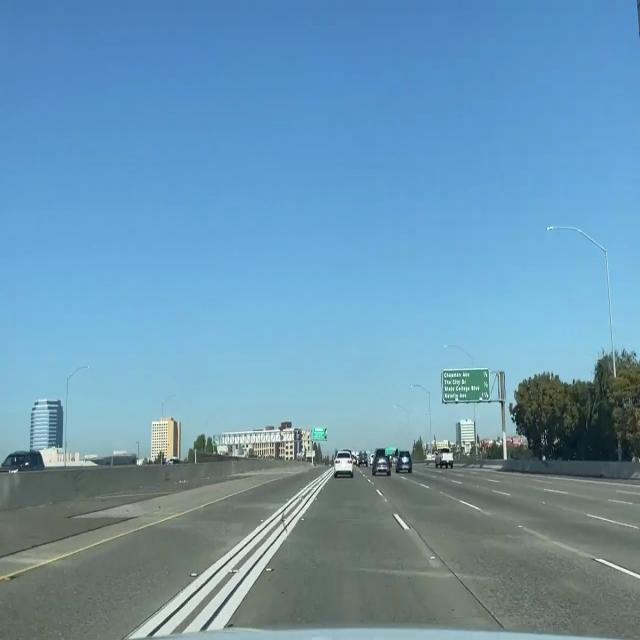street-signs: (441, 368, 491, 402), (312, 425, 327, 441), (385, 446, 398, 456)
